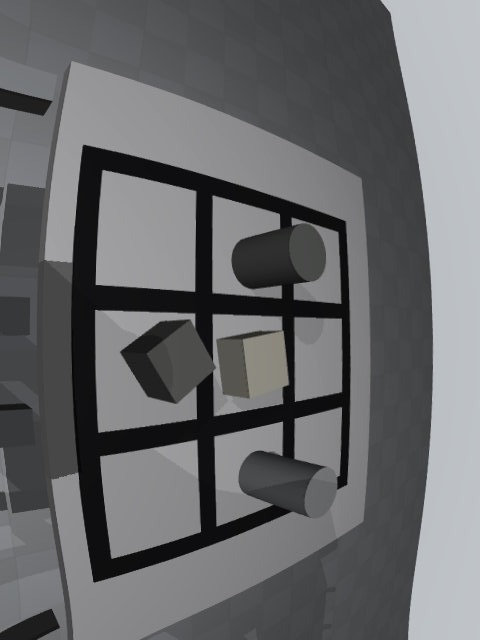can: (238, 451, 338, 519)
cube: (120, 320, 216, 404)
cylinder: (232, 223, 326, 290)
foam: (216, 330, 289, 399)
